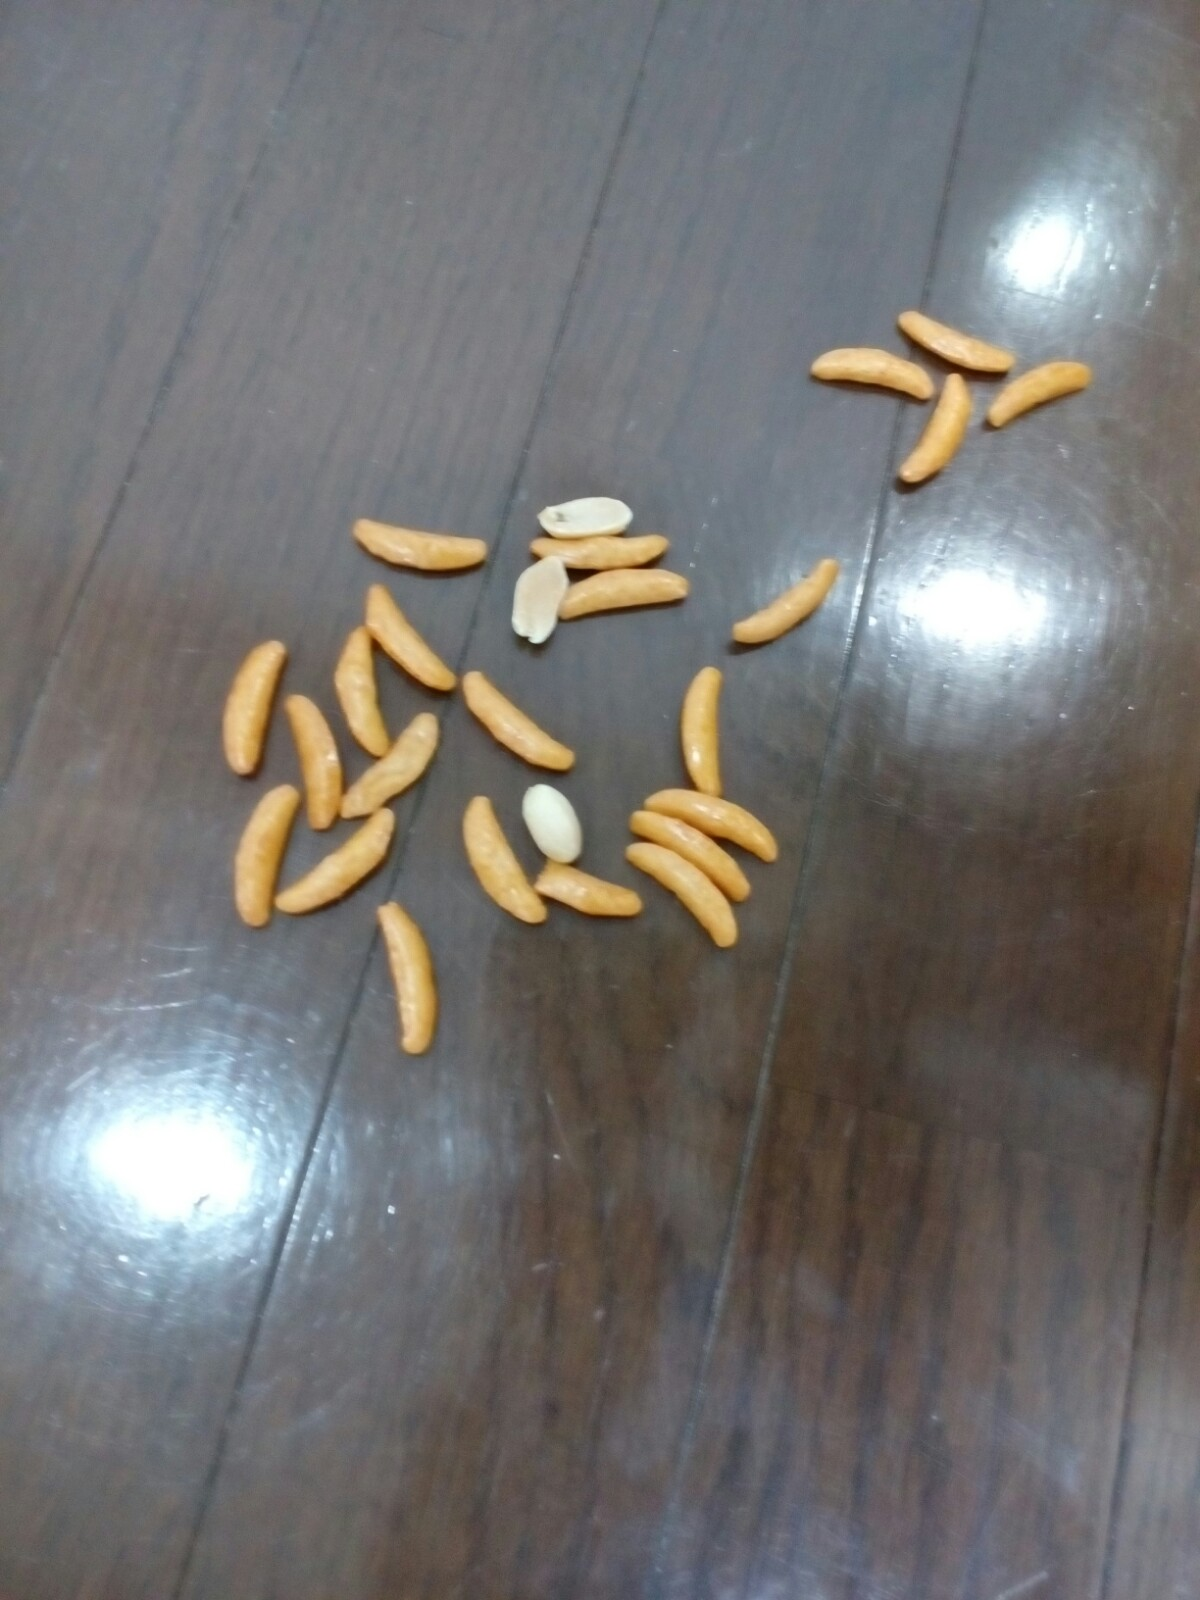peanut: (495, 551, 579, 646), (511, 774, 592, 871), (526, 480, 645, 544)
